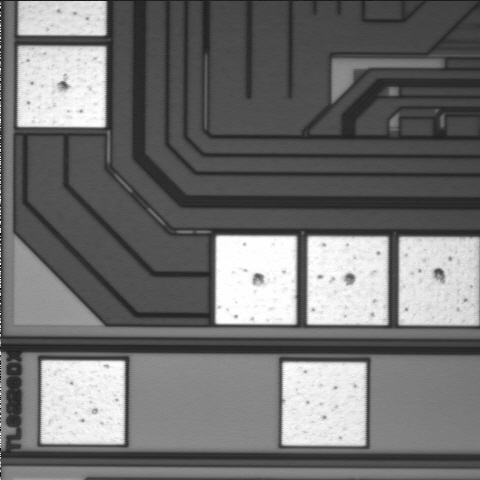pad: (215, 235, 297, 325), (307, 236, 388, 325), (18, 46, 106, 127), (41, 360, 125, 444), (282, 362, 366, 446)
